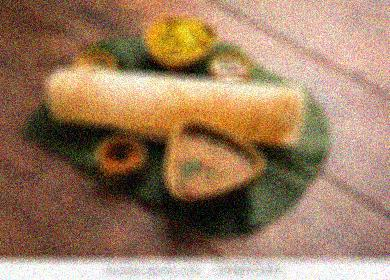dosa: (43, 65, 303, 150)
